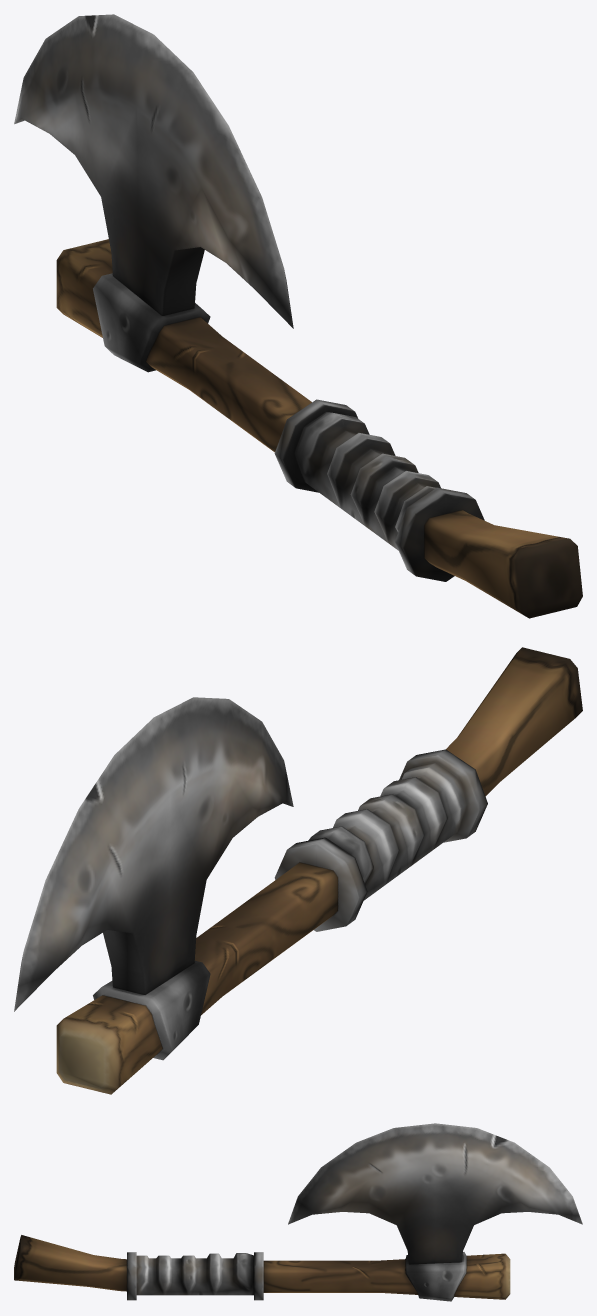
Rendered from Axe_b.fbx.
3 views of the same model, one above another, from view 1: azimuth 30°, elevation 25°; view 2: azimuth 150°, elevation 25°; view 3: azimuth 270°, elevation 25° (orthographic). The views are drawn at different scales.
Parts seen in each view (by area): view 1: Axe_b; view 2: Axe_b; view 3: Axe_b.
Part boxes in pixels (x1,y1,x2,y2): Axe_b: (14,14,582,618); Axe_b: (14,647,582,1094); Axe_b: (14,1123,582,1301).
Size of the model in its own units: 11.79 by 44.67 by 131.
